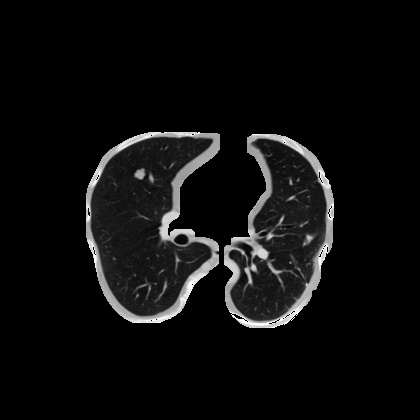PN: (134, 168, 146, 180)
